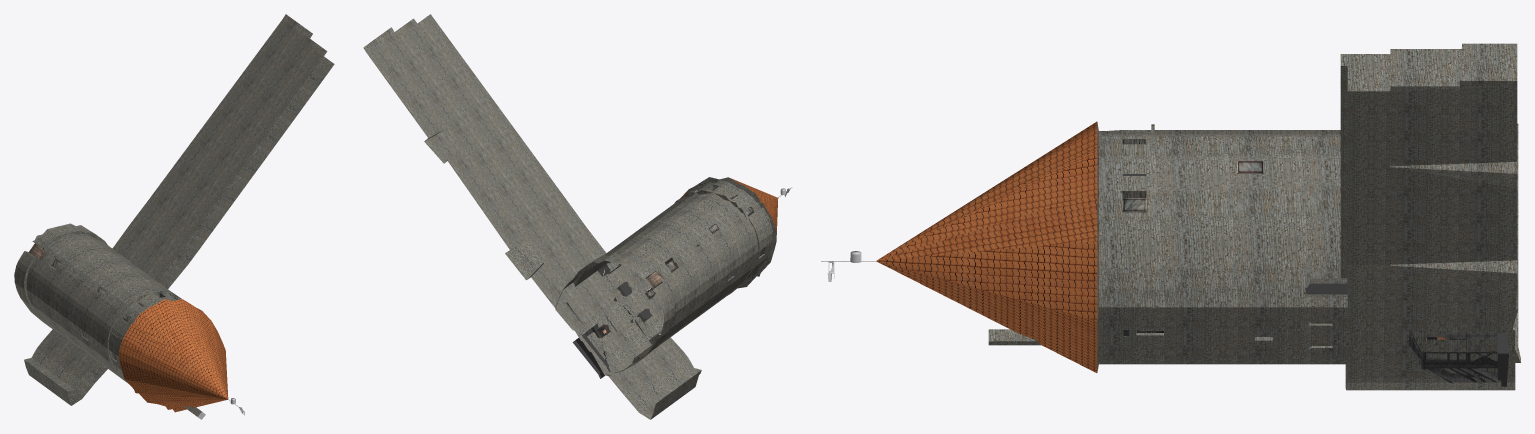
Rendered from Laboratooriumi_27-origo.obj.
3 views of the same model, side by side, from view 1: azimuth 30°, elevation 25°; view 2: azimuth 150°, elevation 25°; view 3: azimuth 270°, elevation 25° (orthographic). The views are drawn at different scales.
Visible parts, largest first — view 1: Laboratooriumi_27; view 2: Laboratooriumi_27; view 3: Laboratooriumi_27.
Part boxes in pixels (x1,y1,x2,y2): Laboratooriumi_27: [14, 14, 334, 419]; Laboratooriumi_27: [363, 14, 792, 419]; Laboratooriumi_27: [821, 43, 1520, 390].
Bounding box in the file's own units: 36 × 36 × 38.33.
